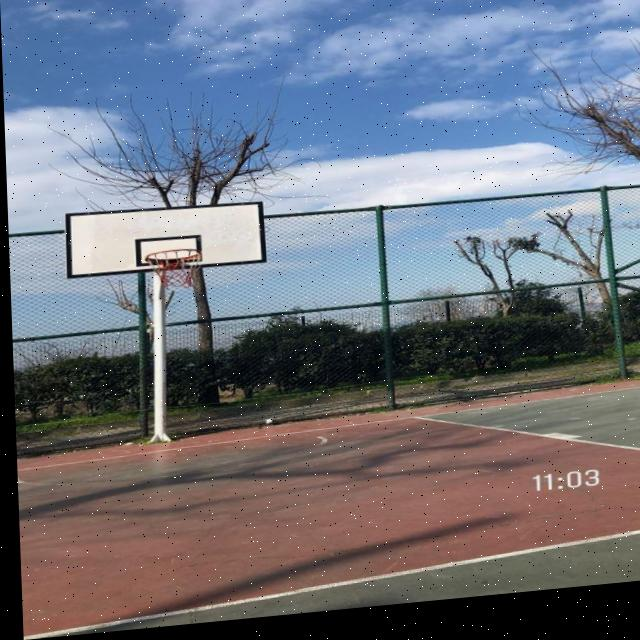hoop: (139, 235, 235, 305)
